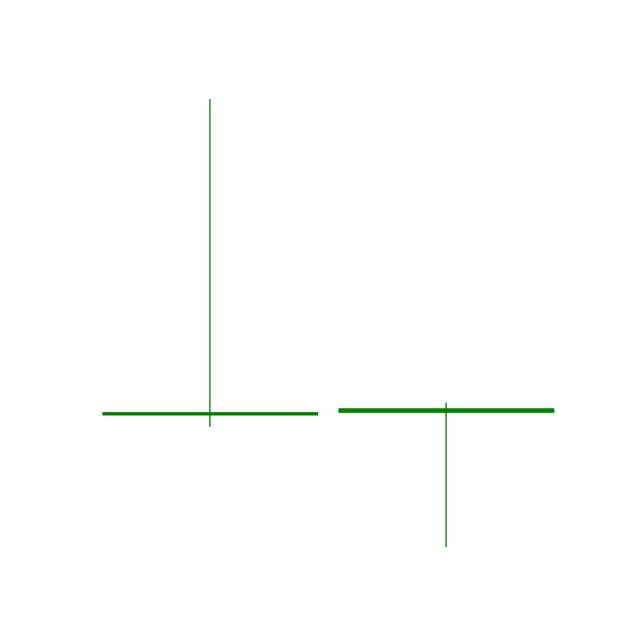Dragonfly Doji: (327, 401, 565, 549)
Gravenstone Doji: (102, 99, 318, 426)
